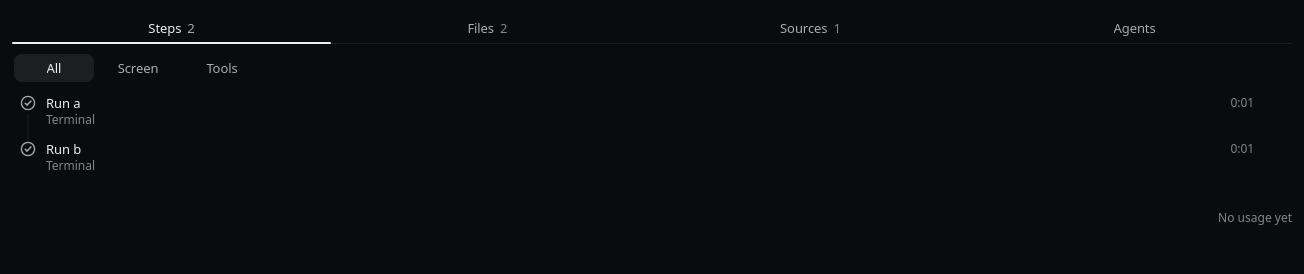
Test case: ActivityRail › puts steps, files and sources on tabs with counts, each only once it has something
The width and height of the screenshot is (1304, 274).
Click the tab "Files 2" at (487, 28), box [331,12,644,44]
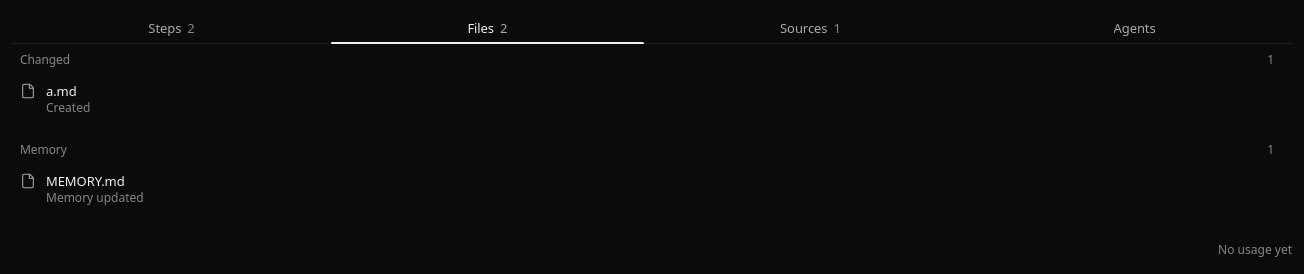
Expected: the element "Changed" shows "a.md", [12,76,1282,122]
Expected: the element "Memory" shows "MEMORY.md", [12,166,1282,212]
Click the tab "Sources 1" at (810, 28), box [644,12,977,44]
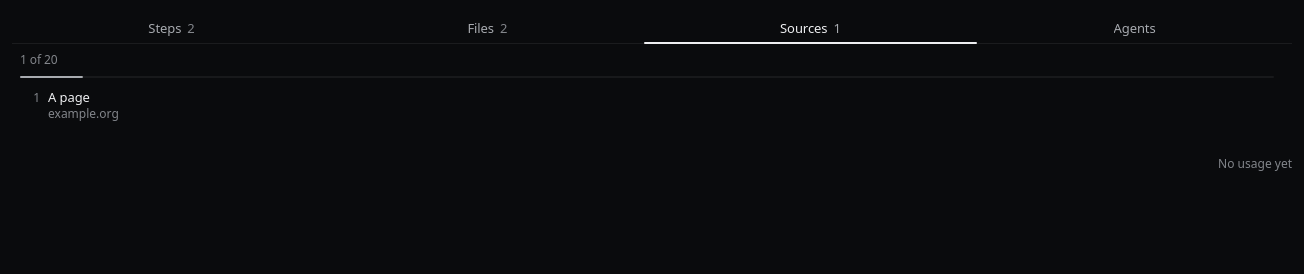
Expected: the list named "Sources dot read" shows "A page", [12,84,1282,126]
